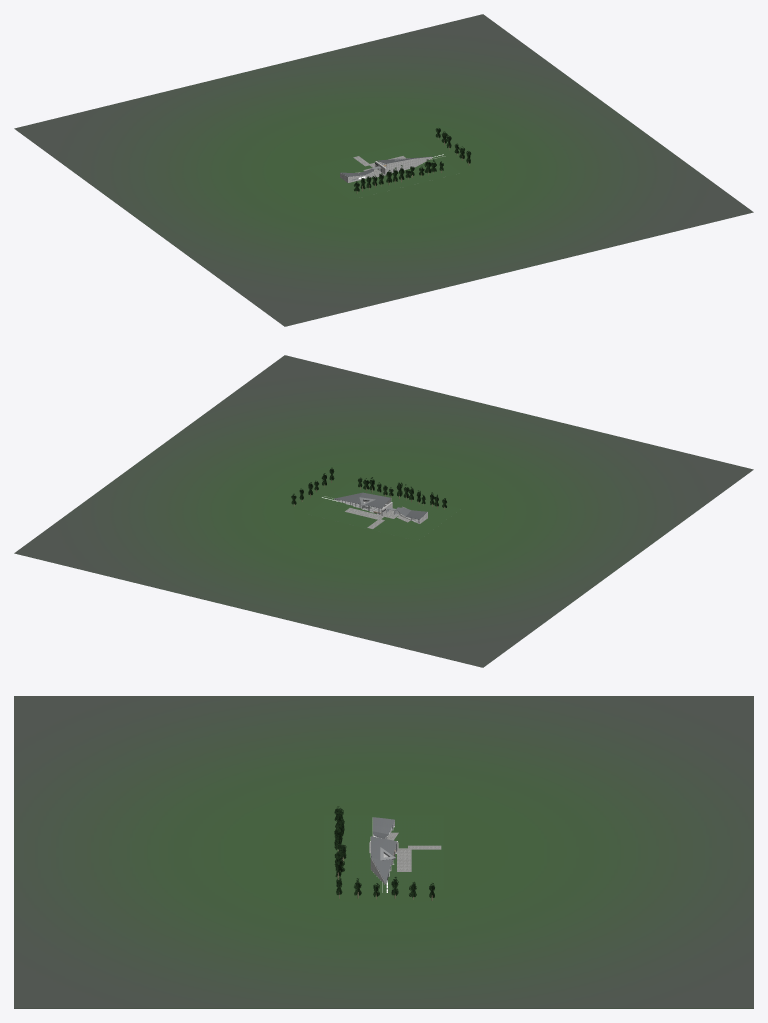
File: design2121_v17_18f.glb
3 renders of one model, top to bottom at view 1: azimuth 30°, elevation 25°; view 2: azimuth 150°, elevation 25°; view 3: azimuth 270°, elevation 25°, orthographic. The views are drawn at different scales.
Visible parts, largest first — view 1: SM_Site_FarGround_North, SM_Site_FarGround_South, SM_Site_FarGround_West, SM_Site_FarGround_East, SM_Site_Ground; view 2: SM_Site_FarGround_South, SM_Site_FarGround_North, SM_Site_FarGround_West, SM_Site_FarGround_East, SM_Site_Ground; view 3: SM_Site_FarGround_North, SM_Site_FarGround_South, SM_Site_FarGround_West, SM_Site_FarGround_East, SM_Site_Ground, SM_Museum_Roof.
Part boxes in pixels (left/top/right/bottom): SM_Site_FarGround_North: left=171, top=129, right=753, bottom=326; SM_Site_FarGround_South: left=14, top=14, right=595, bottom=211; SM_Site_FarGround_West: left=127, top=168, right=349, bottom=243; SM_Site_FarGround_East: left=418, top=97, right=639, bottom=172; SM_Site_Ground: left=307, top=140, right=461, bottom=199; SM_Site_FarGround_South: left=14, top=470, right=596, bottom=667; SM_Site_FarGround_North: left=172, top=355, right=753, bottom=552; SM_Site_FarGround_West: left=418, top=509, right=640, bottom=584; SM_Site_FarGround_East: left=128, top=438, right=349, bottom=513; SM_Site_Ground: left=306, top=481, right=460, bottom=540; SM_Site_FarGround_North: left=14, top=696, right=323, bottom=1008; SM_Site_FarGround_South: left=444, top=696, right=753, bottom=1008; SM_Site_FarGround_West: left=324, top=696, right=443, bottom=815; SM_Site_FarGround_East: left=324, top=889, right=443, bottom=1008; SM_Site_Ground: left=324, top=815, right=443, bottom=889; SM_Museum_Roof: left=371, top=836, right=396, bottom=883.
Bounding box in the file's own units: 400 × 19.91 × 400.
Materials: 51 (12 with a texture image).
